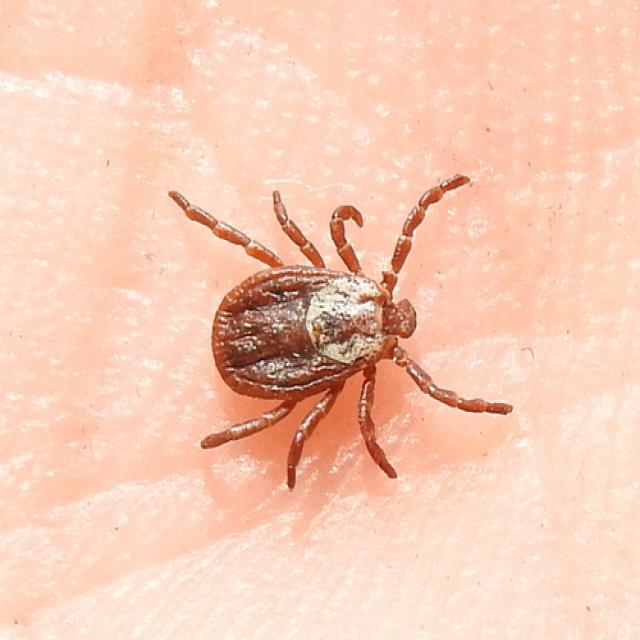Dermacentor Reticulatus-F: (169, 176, 511, 492)
